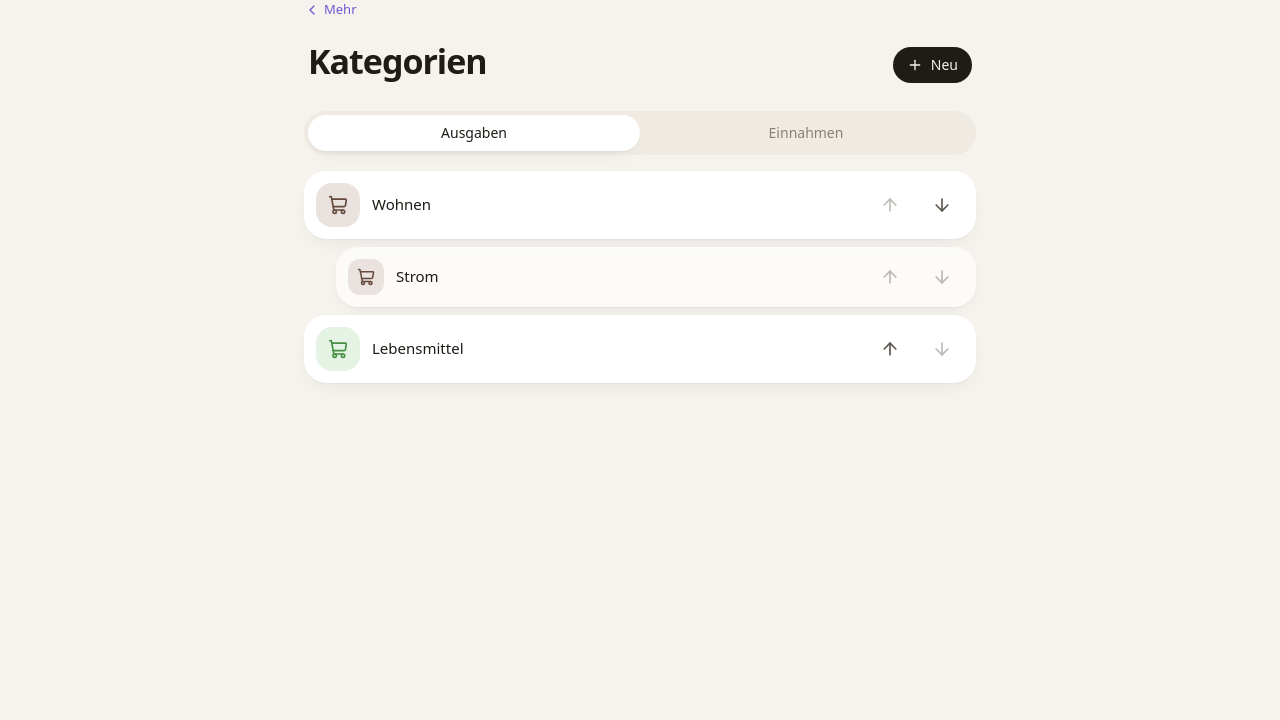
Test: moving under a main category that has a budget says this budget is deleted
Click the button "Lebensmittel": (338, 348) [312, 322, 860, 374]
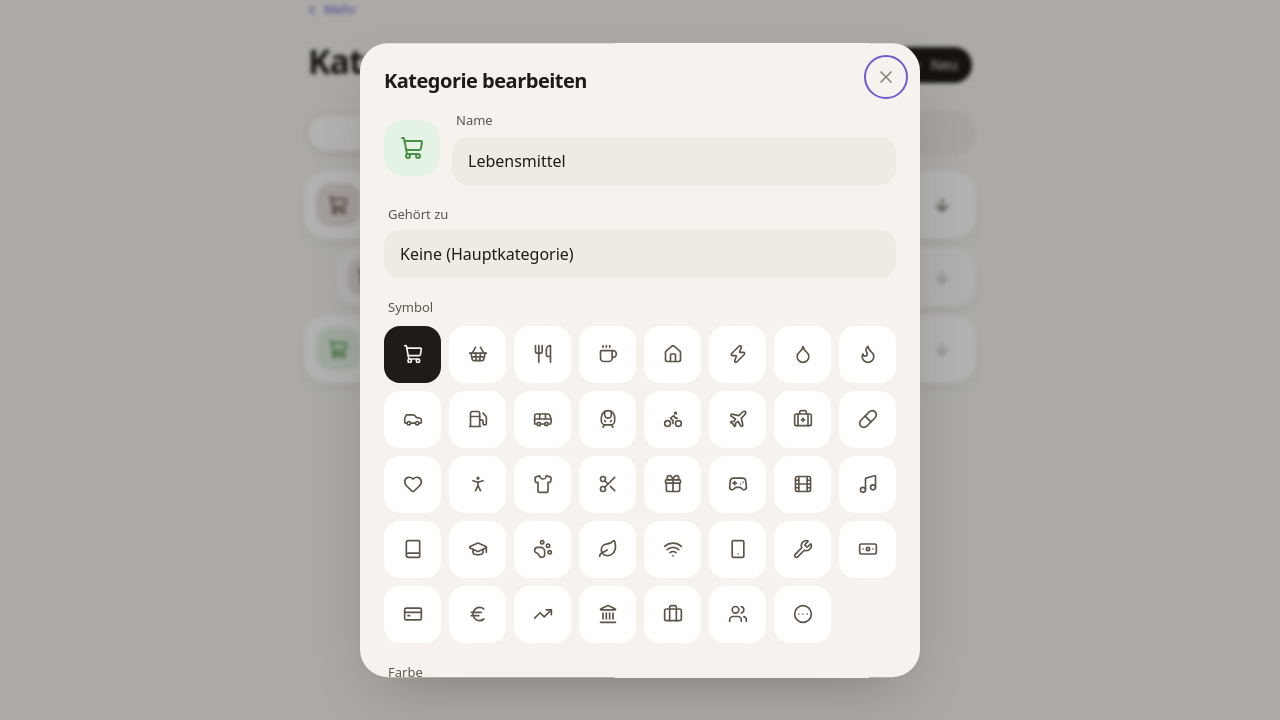
Select "Wohnen" in the dropdown labelled "Gehört zu": (640, 254) [384, 230, 896, 278]
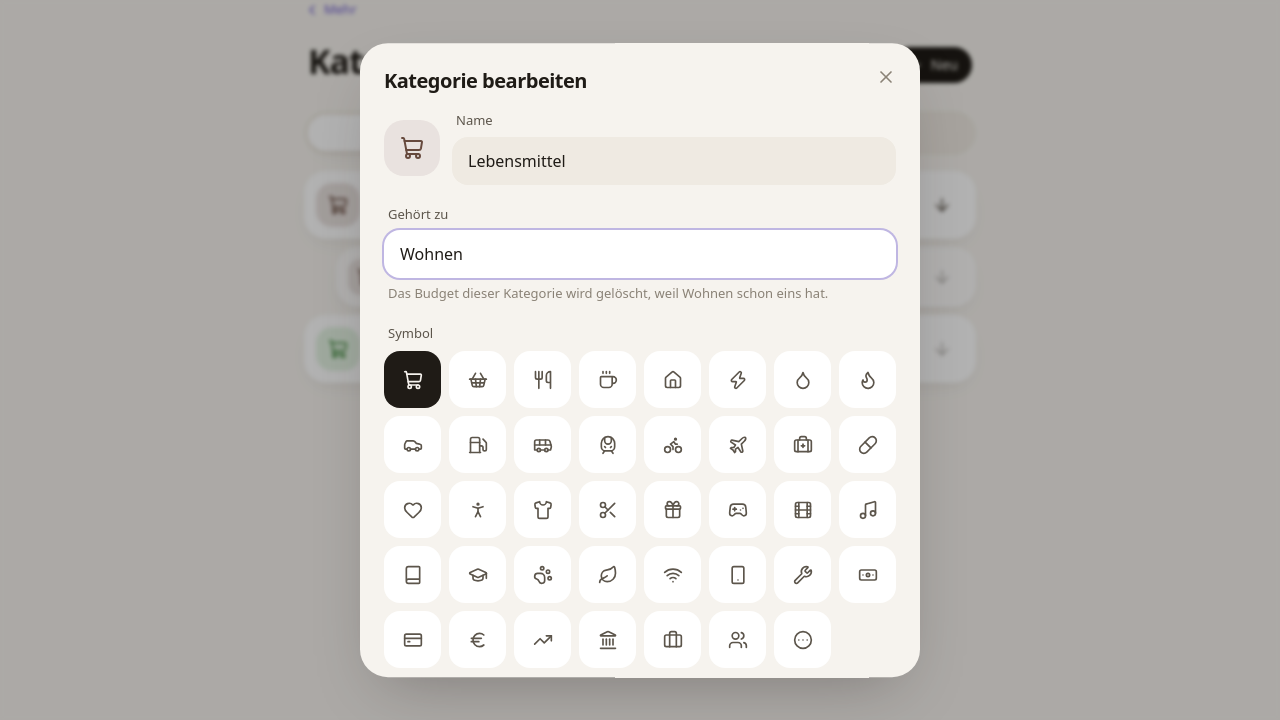
Now the text "Das Budget dieser Kategorie wird gelöscht, weil Wohnen schon eins hat." is shown, box [384, 284, 896, 304]
